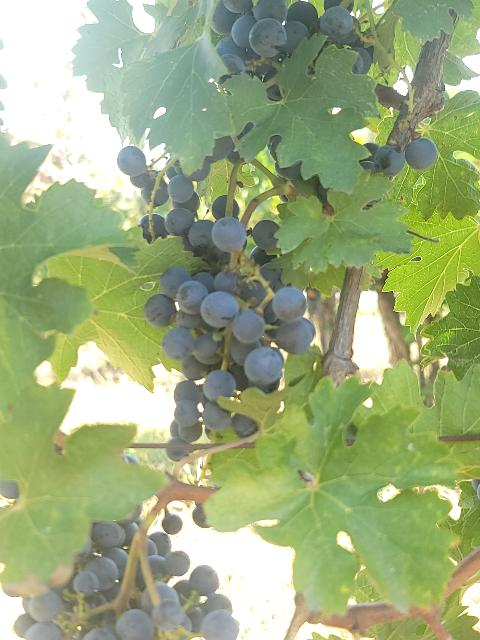grapes: (145, 216, 315, 440), (15, 521, 239, 640), (210, 0, 372, 74), (130, 169, 248, 266)
